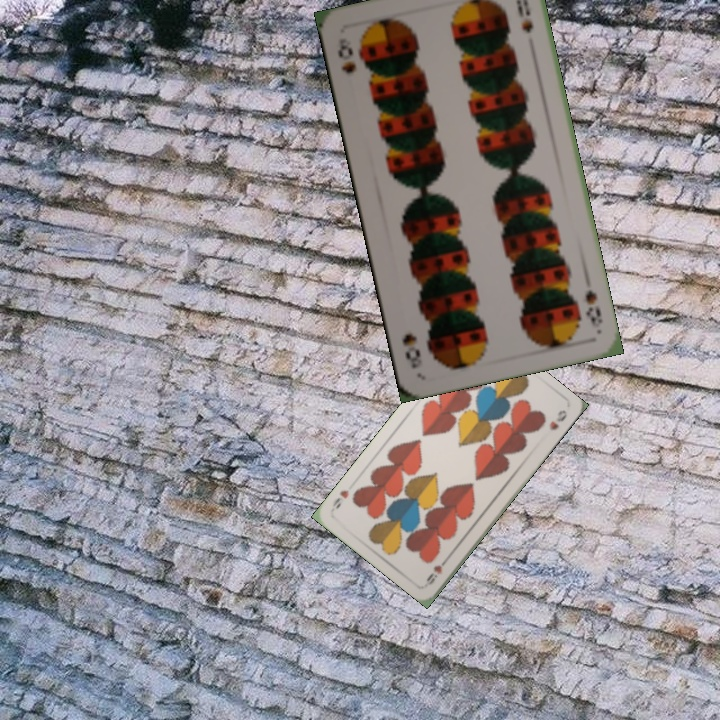H9: (422, 553, 451, 588)
S8: (581, 285, 605, 330), (334, 40, 359, 77)
